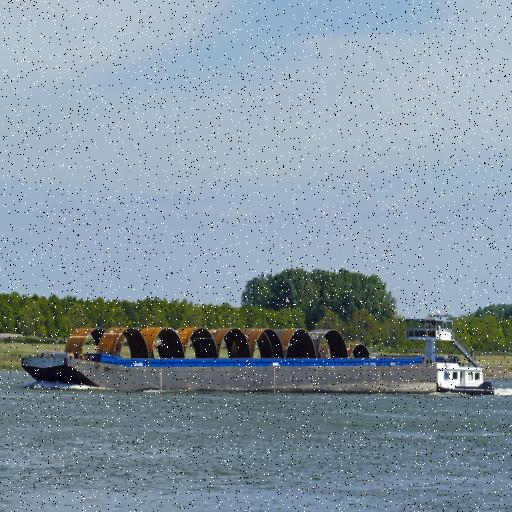tugboat: (380, 310, 499, 402)
